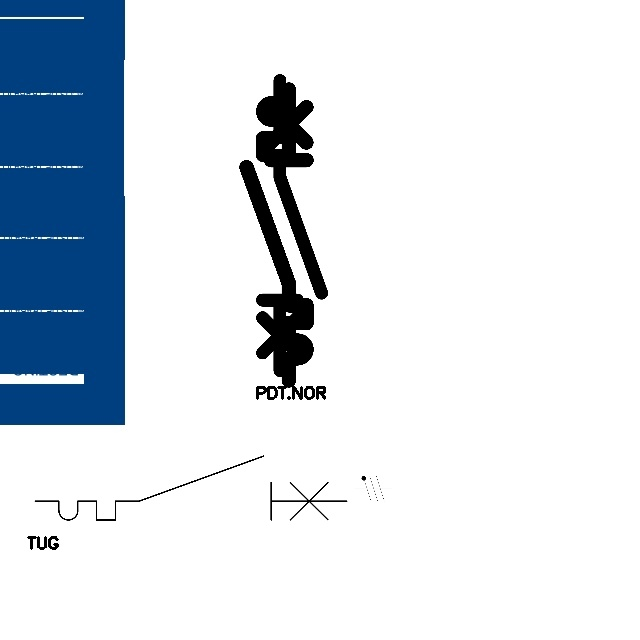interruptor_termomagnetico: (27, 448, 355, 528), (239, 82, 314, 388), (255, 73, 329, 378)
